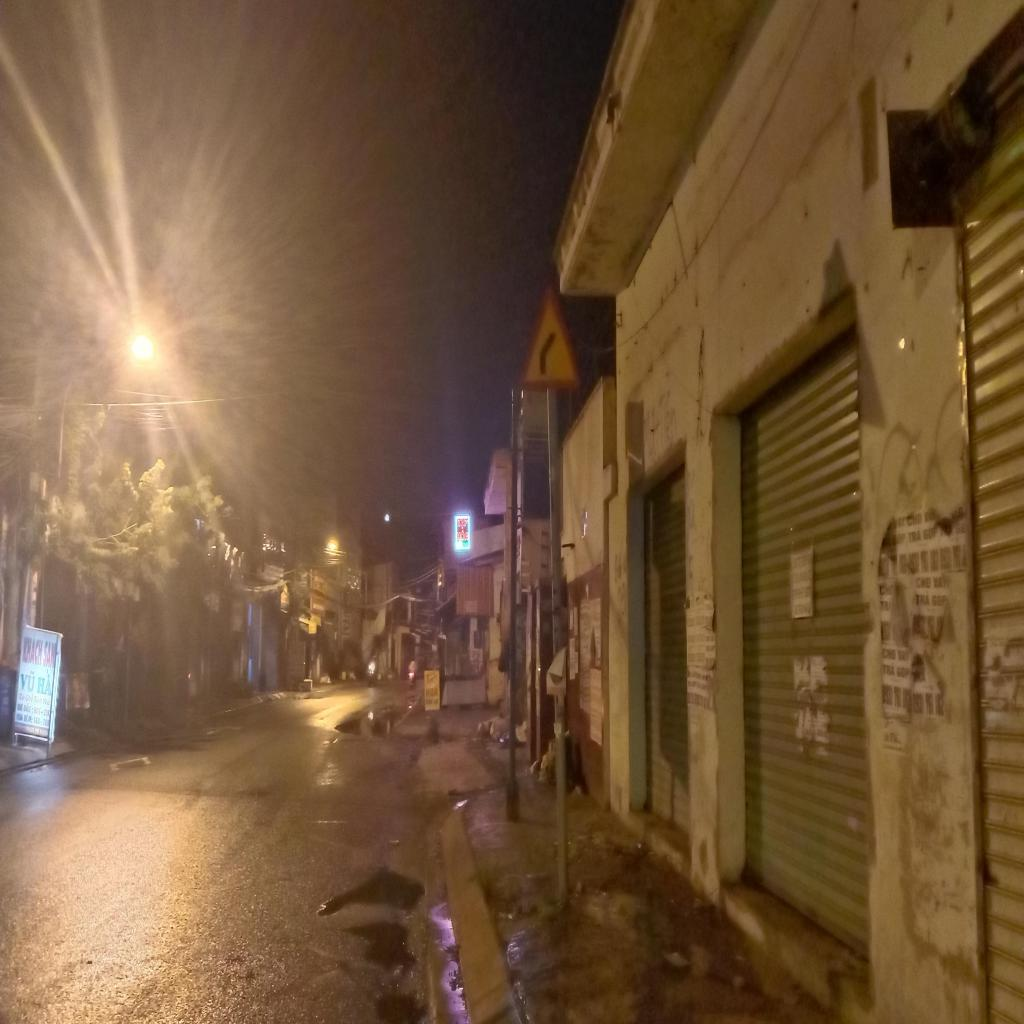cho_ngoat_nguy_hiem_ben_phai: (518, 282, 582, 388)
